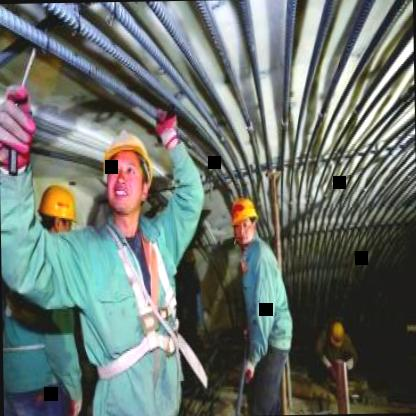helmet: (100, 125, 160, 220), (38, 181, 80, 238), (229, 195, 257, 245), (327, 320, 346, 349)
